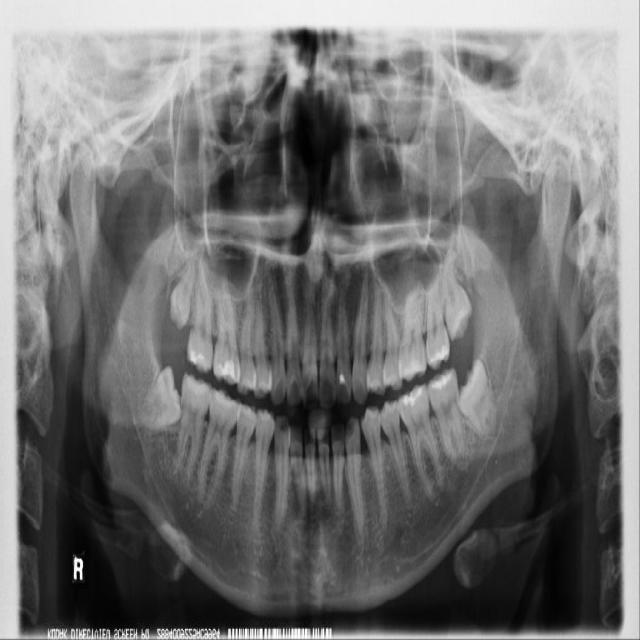3M ESPE Implant: (166, 258, 196, 333)
52: (419, 366, 469, 414), (392, 382, 442, 430), (208, 342, 247, 388), (186, 329, 216, 371), (426, 328, 450, 374), (335, 366, 354, 404)
73: (582, 577, 590, 591)
BioHorizons Implant: (426, 274, 450, 373)
BioLife Implant: (433, 246, 477, 345)
Biomet 3i Implant: (449, 356, 503, 440)
Blue Sky Bio Implant: (425, 368, 475, 464)
Caries: (184, 263, 228, 369)
Implant: (177, 372, 213, 485)
Keystone Dental Implant: (139, 365, 183, 435)
